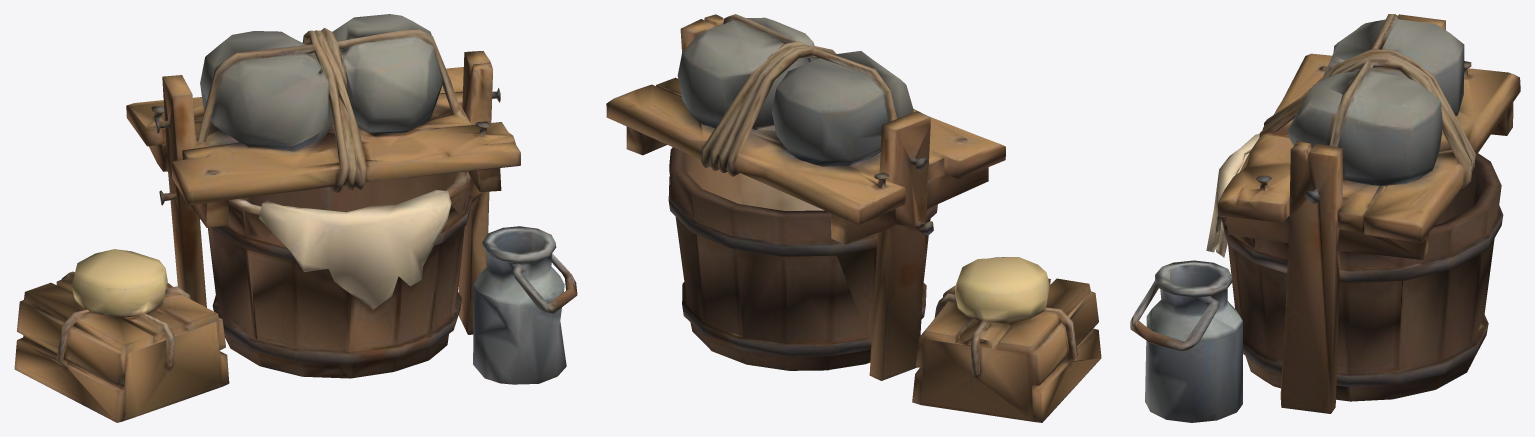
File: nainao-1.glb
3 views of the same model, side by side, from view 1: azimuth 30°, elevation 25°; view 2: azimuth 150°, elevation 25°; view 3: azimuth 270°, elevation 25° (orthographic). The views are drawn at different scales.
Parts seen in each view (by area): view 1: node_0; view 2: node_0; view 3: node_0.
Boxes of the visible parts, x1=… form: node_0: x1=14, y1=14, x2=577, y2=422; node_0: x1=606, y1=14, x2=1101, y2=422; node_0: x1=1130, y1=14, x2=1520, y2=422.
Size of the model in its own units: 0.9559 by 0.5892 by 0.6966.
1 material, 1 textured.
